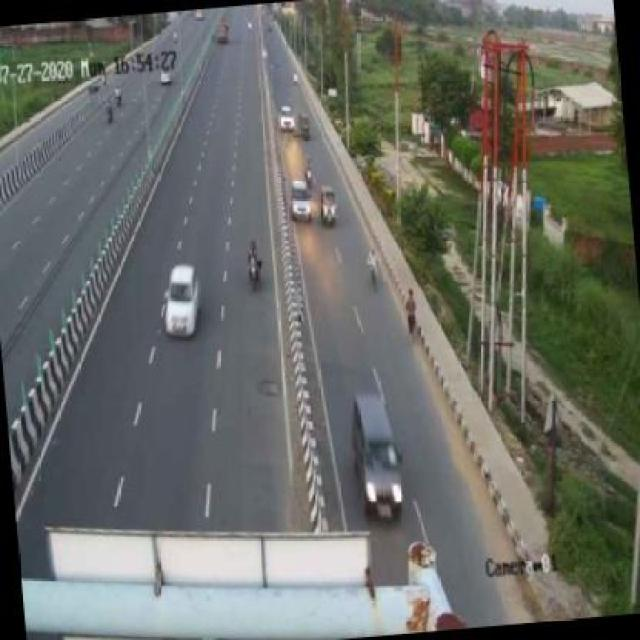car: (351, 388, 412, 524), (162, 254, 202, 346), (288, 178, 314, 224), (276, 106, 302, 132)
